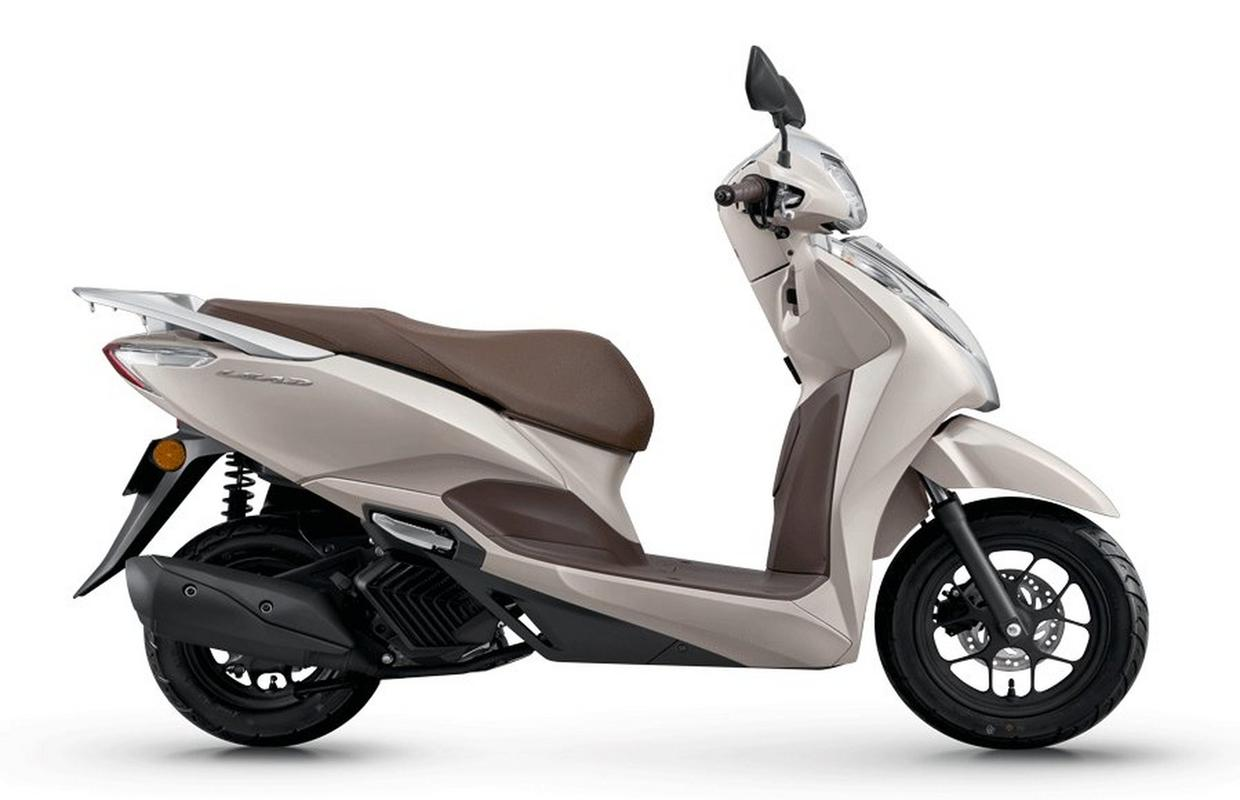摩托车: (58, 37, 1168, 774)
